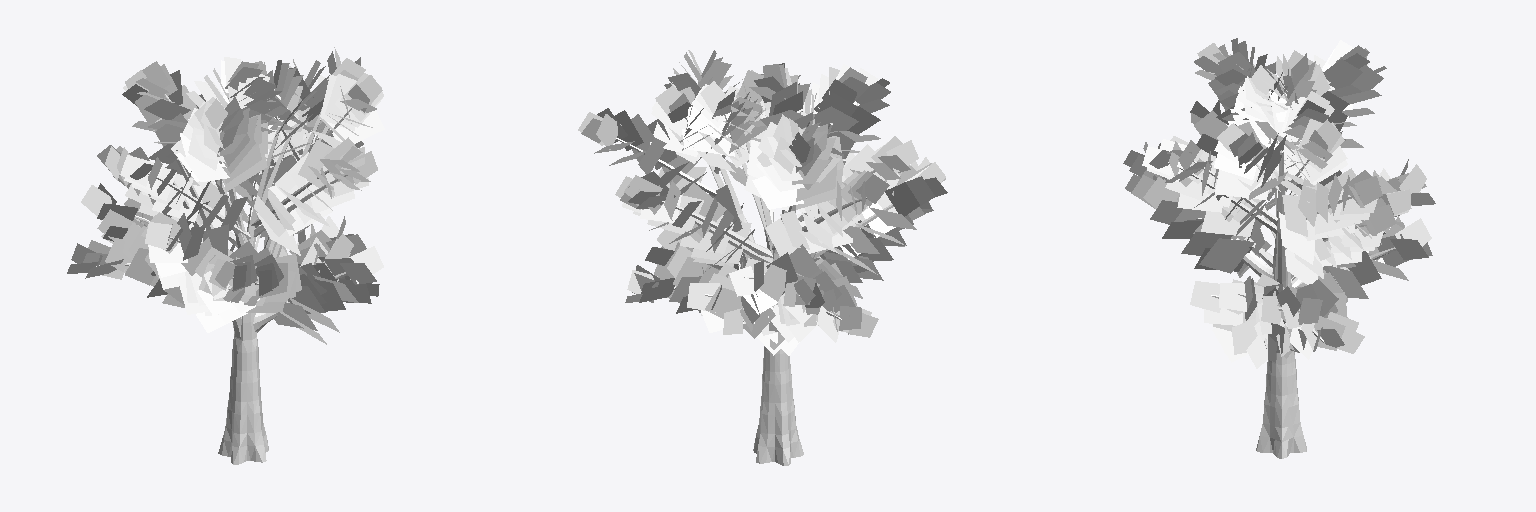
Rendered from tree4.obj.
The picture shows the model from 3 angles: view 1: azimuth 30°, elevation 25°; view 2: azimuth 150°, elevation 25°; view 3: azimuth 270°, elevation 25°; orthographic projection.
Parts seen in each view (by area): view 1: tree; view 2: tree; view 3: tree.
Part boxes in pixels (x1,y1,x2,y2): tree: (67,47,384,464); tree: (578,50,947,465); tree: (1123,38,1435,458).
Bounding box in the file's own units: 462 × 587 × 424.